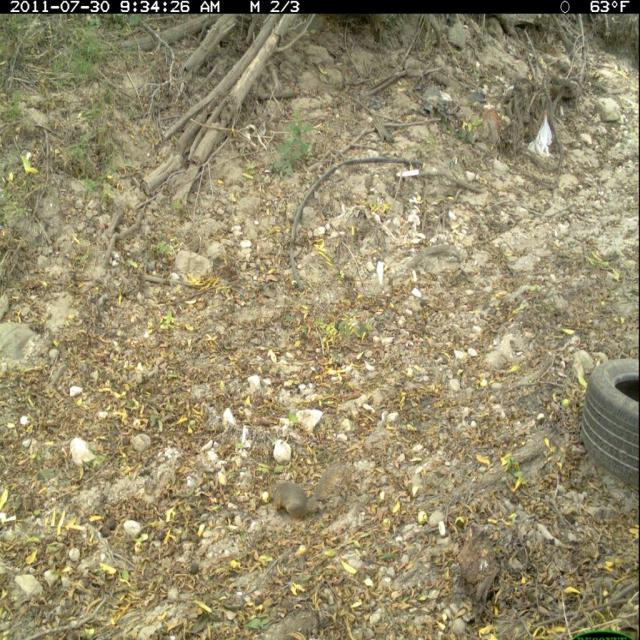squirrel: (268, 462, 353, 521)
